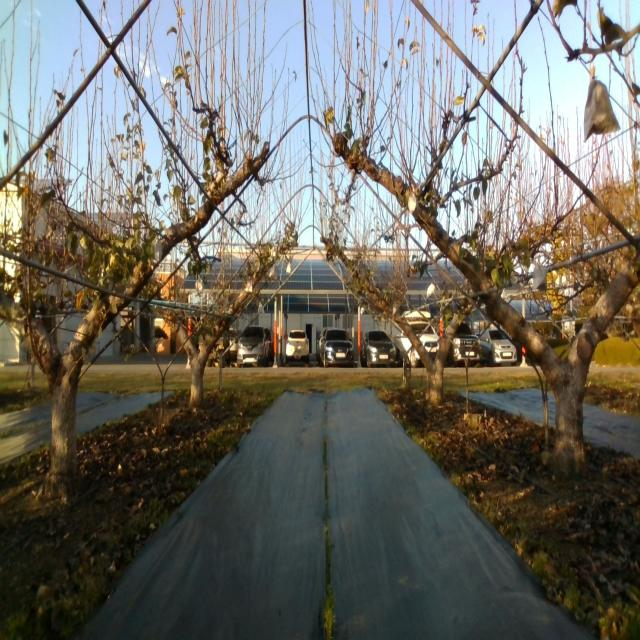pearbags: (584, 78, 621, 142), (532, 263, 548, 291)
